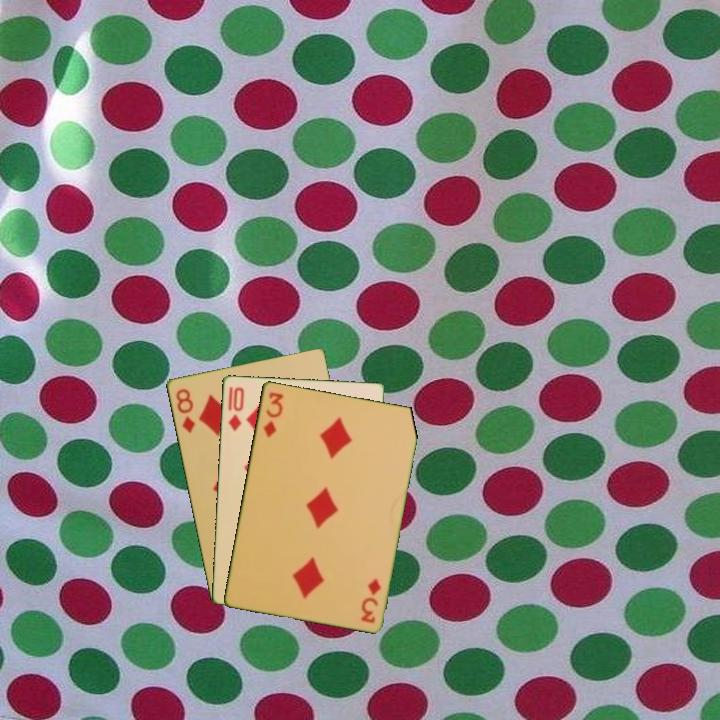10d: (225, 383, 247, 434)
3d: (357, 574, 384, 625), (260, 388, 286, 440)
8d: (172, 385, 198, 436)
